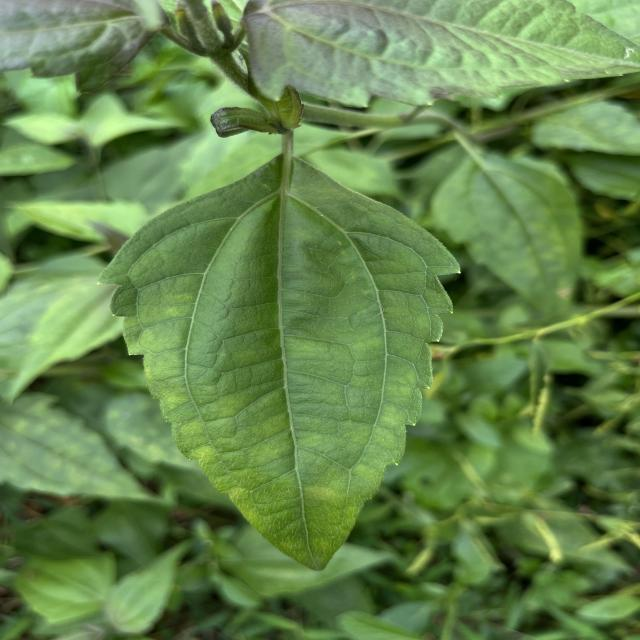Chromolaena odorata: (89, 150, 467, 584)
